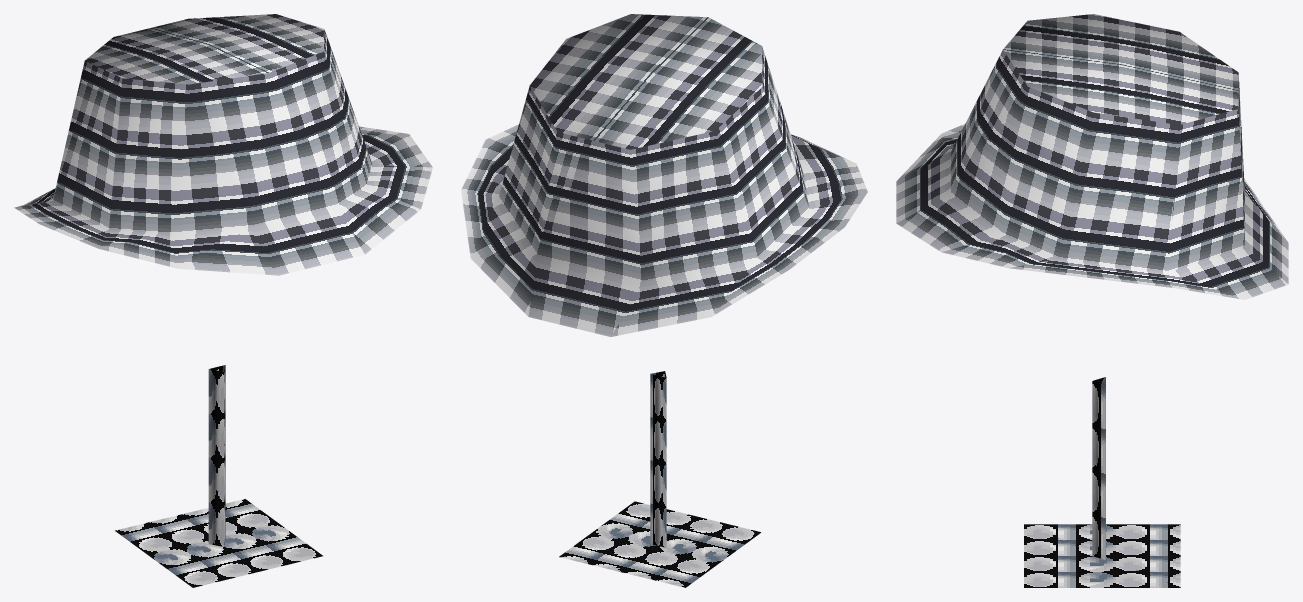
The model's file is 2930head080_c.gltf.
3 renders of one model, left to right at view 1: azimuth 30°, elevation 25°; view 2: azimuth 150°, elevation 25°; view 3: azimuth 270°, elevation 25°, orthographic. The views are drawn at different scales.
Visible parts, largest first — view 1: 2930head080_c; view 2: 2930head080_c; view 3: 2930head080_c.
Boxes of the visible parts, x1,y1,x2,y2 form: 2930head080_c: (14,14,432,587); 2930head080_c: (461,14,867,587); 2930head080_c: (896,14,1288,587).
Bounding box in the file's own units: 1.31 × 1.72 × 1.2.
Materials: 2 (2 with a texture image).
